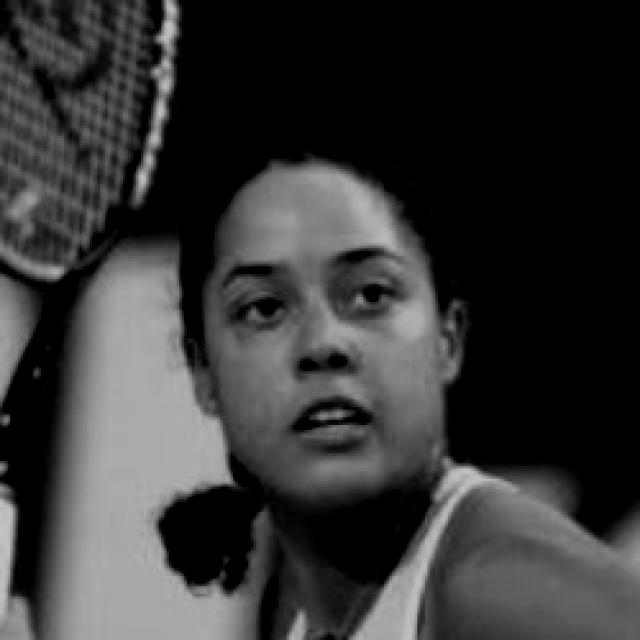real: (196, 168, 448, 514), (220, 272, 421, 342)
